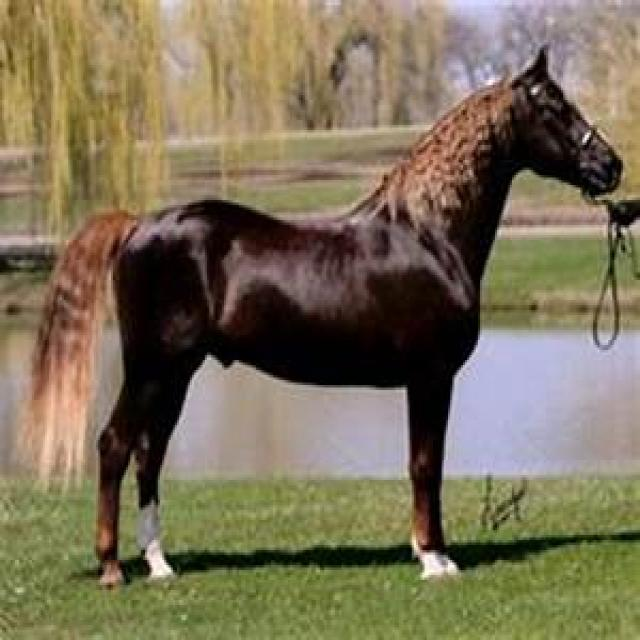animal: (96, 48, 626, 590)
